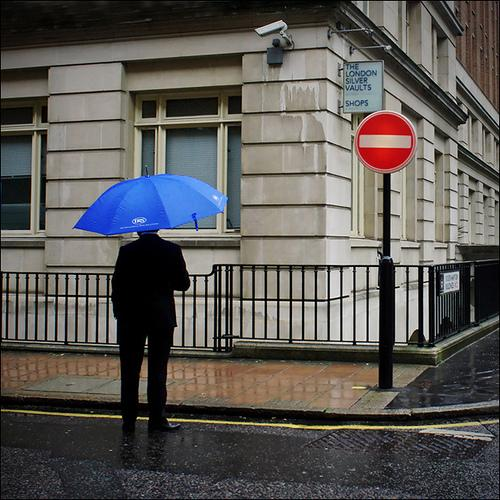person: (111, 228, 191, 435)
